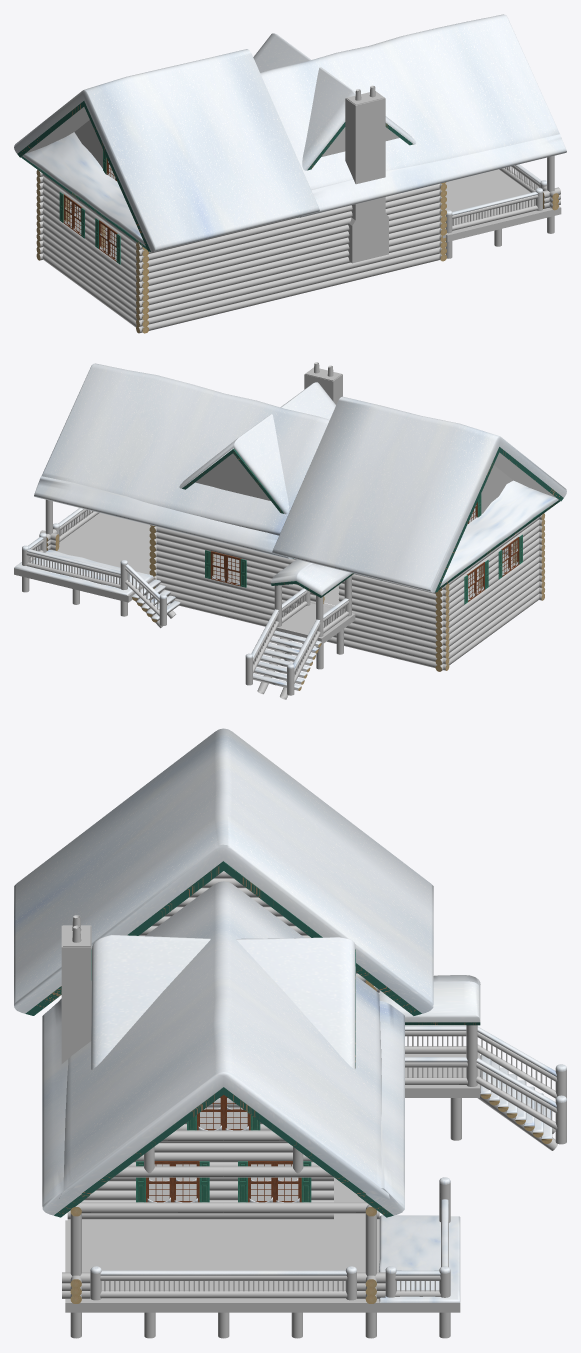
File: Chrismast_cabin 1.fbx
3 renders of one model, top to bottom at view 1: azimuth 30°, elevation 25°; view 2: azimuth 150°, elevation 25°; view 3: azimuth 270°, elevation 25°, orthographic. The views are drawn at different scales.
Parts seen in each view (by area): view 1: snow, log cabin wall, balcony, fireplace, roof, window front, interior celling.002; view 2: snow, log cabin wall, balcony, front porch, roof, window front, window side, fireplace, interior floor, interior celling.002; view 3: snow, balcony, front porch, log cabin wall, window balcony, roof, fireplace, interior floor.
Boxes of the visible parts, x1=… form: snow: x1=14, y1=14, x2=566, y2=252; log cabin wall: x1=36, y1=170, x2=446, y2=333; balcony: x1=443, y1=156, x2=561, y2=258; fireplace: x1=345, y1=85, x2=388, y2=263; roof: x1=17, y1=101, x2=413, y2=251; window front: x1=59, y1=150, x2=120, y2=264; interior celling.002: x1=74, y1=120, x2=102, y2=168; snow: x1=14, y1=363, x2=566, y2=688; log cabin wall: x1=149, y1=513, x2=544, y2=671; balcony: x1=14, y1=499, x2=180, y2=628; front porch: x1=245, y1=573, x2=355, y2=699; roof: x1=182, y1=447, x2=563, y2=592; window front: x1=464, y1=494, x2=522, y2=604; window side: x1=205, y1=550, x2=246, y2=587; fireplace: x1=304, y1=362, x2=342, y2=404; interior floor: x1=213, y1=554, x2=513, y2=605; interior celling.002: x1=481, y1=465, x2=512, y2=514; snow: x1=14, y1=728, x2=566, y2=1302; balcony: x1=62, y1=1130, x2=460, y2=1338; front porch: x1=405, y1=1022, x2=566, y2=1150; log cabin wall: x1=67, y1=871, x2=379, y2=1219; window balcony: x1=136, y1=1095, x2=311, y2=1202; roof: x1=25, y1=861, x2=421, y2=1217; fireplace: x1=61, y1=915, x2=91, y2=1063; interior floor: x1=149, y1=1107, x2=365, y2=1217.
Size of what is drawn, in the model's own units: 2571 by 1279 by 1950.
